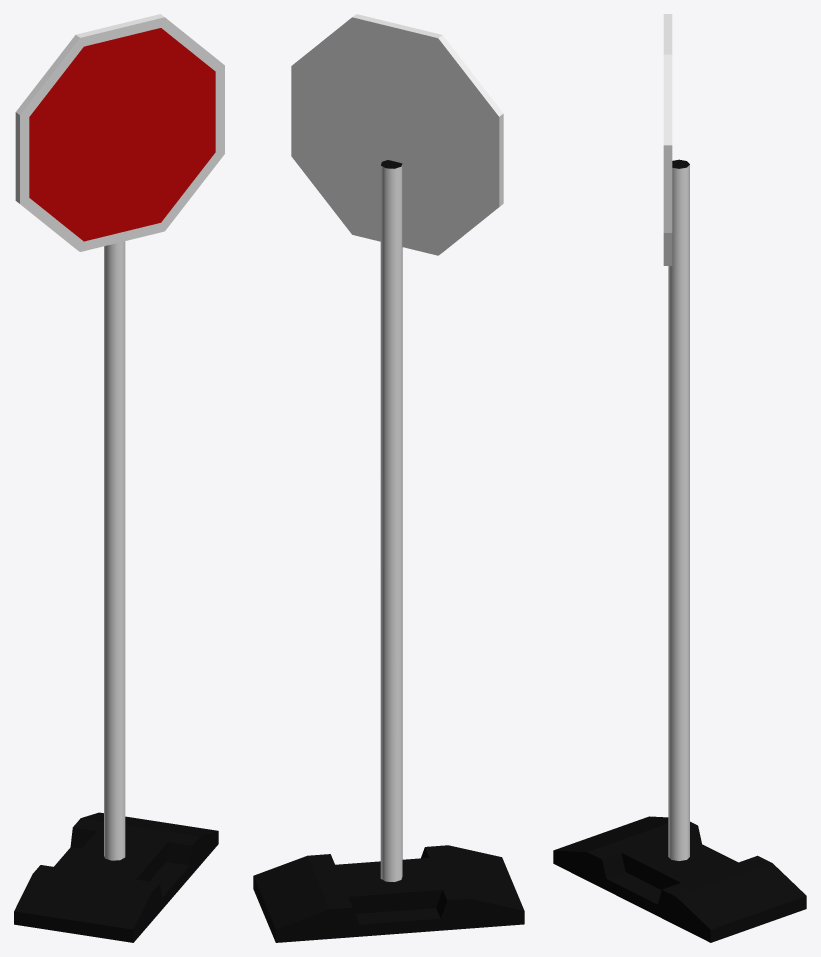
File: StopSign.fbx
The picture shows the model from 3 angles, left to right: view 1: azimuth 30°, elevation 25°; view 2: azimuth 150°, elevation 25°; view 3: azimuth 270°, elevation 25°; orthographic projection. The views are drawn at different scales.
Parts seen in each view (by area): view 1: StopSign, SignStand05; view 2: StopSign, SignStand05; view 3: StopSign, SignStand05.
Boxes of the visible parts, x1,y1,x2,y2 form: StopSign: (15,14,224,860); SignStand05: (14,812,218,942); StopSign: (291,14,503,881); SignStand05: (253,845,524,942); StopSign: (663,14,689,860); SignStand05: (553,816,806,942).
Bounding box in the file's own units: 37.81 × 132 × 35.73.
